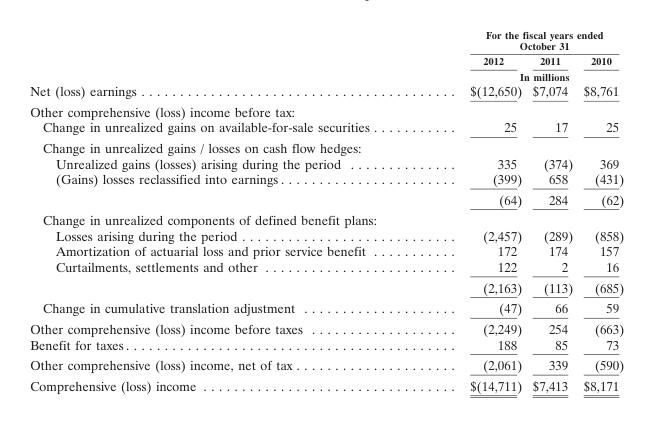table: (29, 28, 623, 393)
table column: (29, 28, 419, 393), (419, 28, 526, 393), (526, 28, 577, 393), (577, 28, 623, 393)
table column header: (29, 28, 623, 82)
table projected row header: (29, 101, 623, 119), (29, 137, 623, 155), (29, 209, 623, 227)
table row: (29, 28, 623, 52), (29, 188, 623, 209), (29, 276, 623, 297), (29, 297, 623, 318), (29, 354, 623, 374), (29, 82, 623, 101), (29, 374, 623, 393), (29, 101, 623, 119), (29, 119, 623, 137), (29, 137, 623, 155), (29, 170, 623, 188), (29, 209, 623, 227), (29, 258, 623, 276), (29, 318, 623, 336), (29, 336, 623, 354), (29, 52, 623, 68), (29, 227, 623, 243), (29, 155, 623, 170), (29, 243, 623, 258), (29, 68, 623, 82)
table spanning cell: (419, 28, 623, 52), (419, 68, 623, 82)
